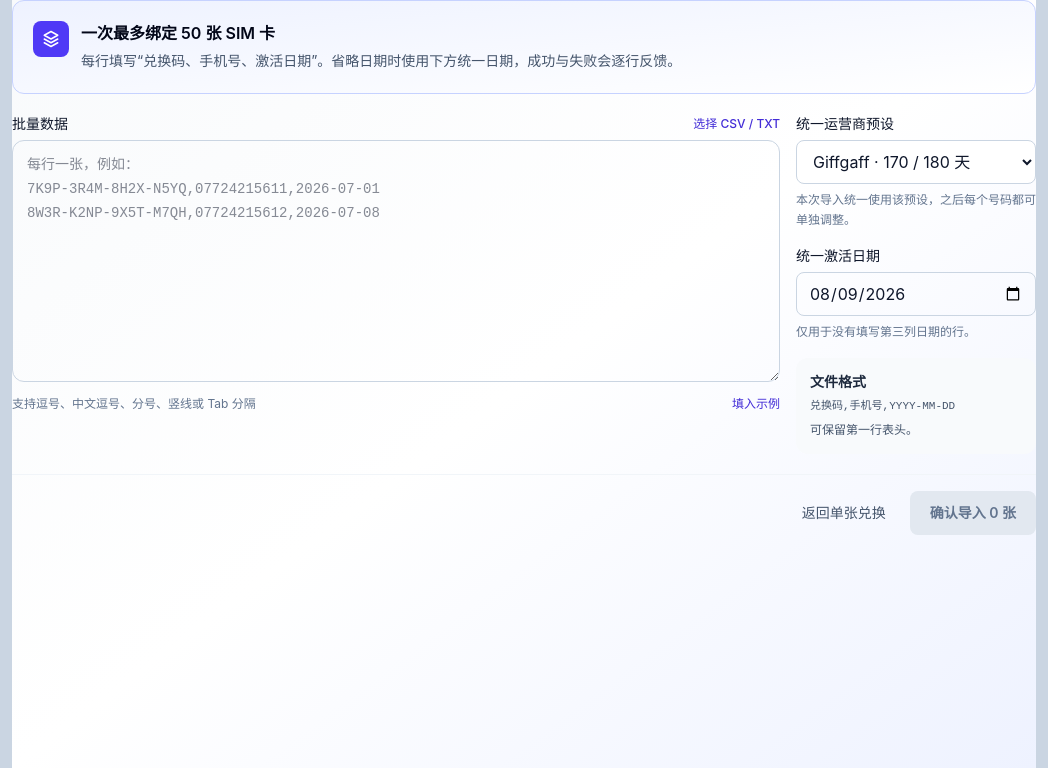
Test case: <BatchRedeemPanel /> › 移动端输入保持 16px 字号并在逐行错误修复前禁止提交
The image size is (1048, 768).
Replace the text in the text box labelled "批量数据" with "无效内容" at (396, 261), box [12, 140, 780, 382]
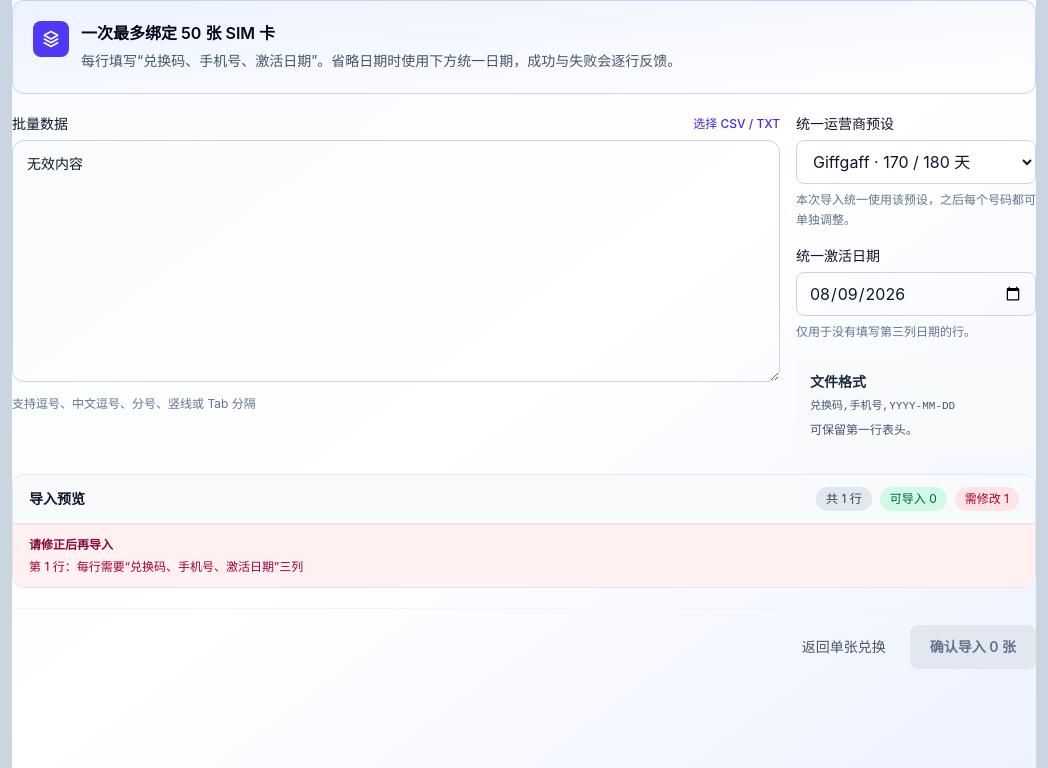
Check: the button "确认导入 0 张" is disabled, box [910, 625, 1036, 669]
Check: the list item "第 1 行：每行需要“兑换码、手机号、激活日期”三列" is shown, box [29, 559, 303, 574]
